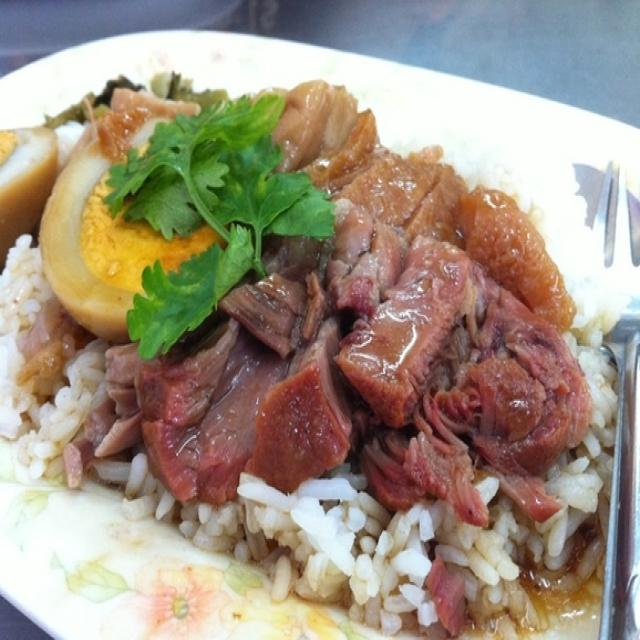猪肉菜式: (18, 41, 616, 604)
